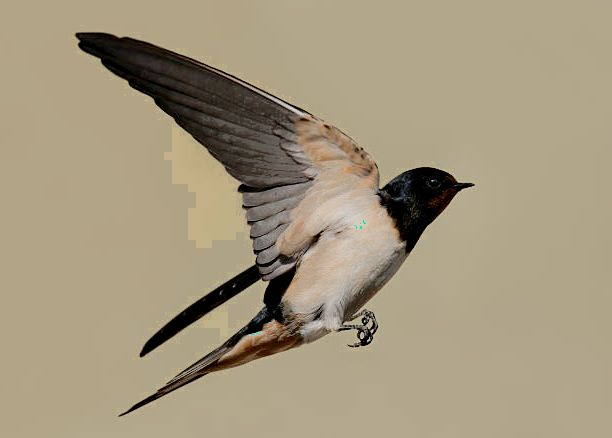Bird: (72, 27, 478, 425)
